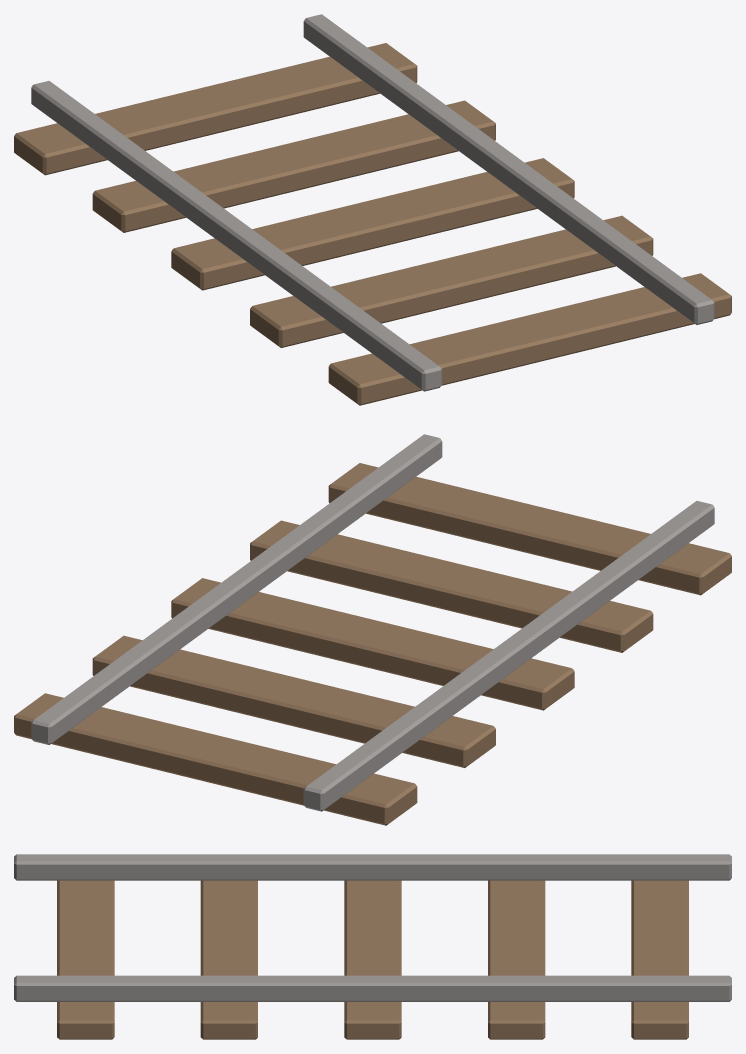
3 views of the same model, one above another, from view 1: azimuth 30°, elevation 25°; view 2: azimuth 150°, elevation 25°; view 3: azimuth 270°, elevation 25° (orthographic). The views are drawn at different scales.
Parts seen in each view (by area): view 1: RailTrack; view 2: RailTrack; view 3: RailTrack.
Boxes of the visible parts, bbox=[...] form: RailTrack: bbox=[14, 14, 731, 405]; RailTrack: bbox=[14, 434, 731, 825]; RailTrack: bbox=[14, 854, 731, 1039].
Bounding box in the file's own units: 0.55 × 0.06 × 1.
